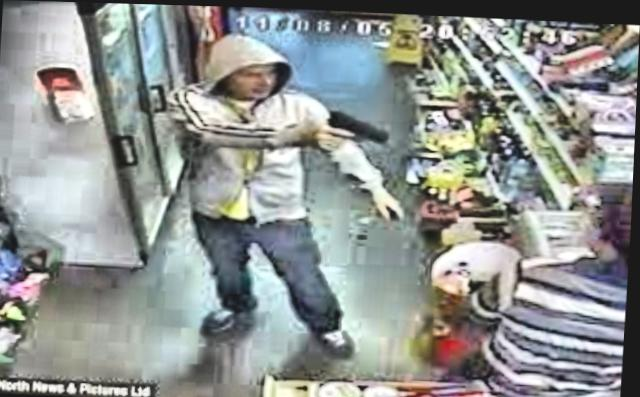pistol: (317, 95, 396, 165)
